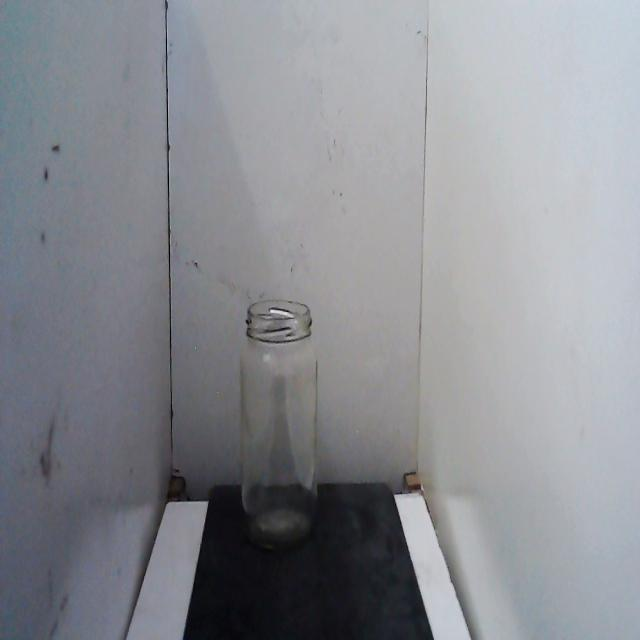vidro: (235, 294, 327, 563)
